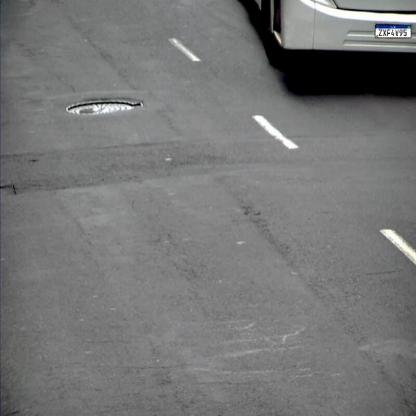PlacaM: (375, 25, 411, 38)
